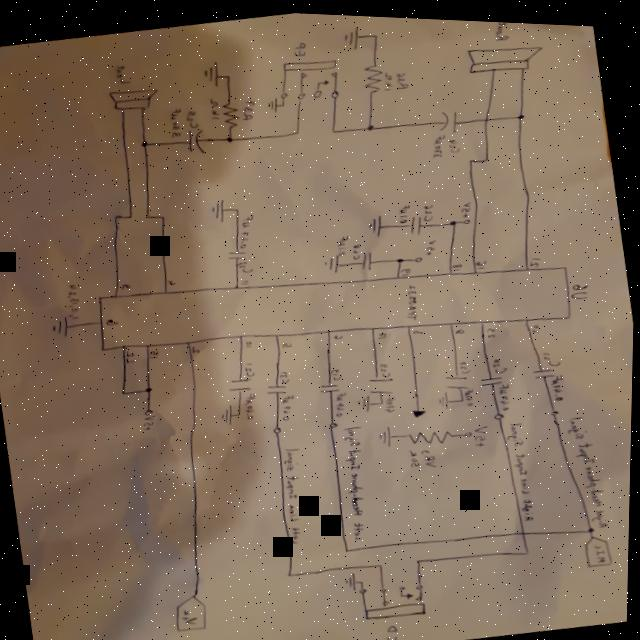capacitor: (184, 126, 209, 155), (435, 104, 460, 132), (367, 371, 395, 394), (445, 368, 471, 389), (532, 361, 559, 377), (229, 375, 254, 391), (480, 369, 506, 384), (406, 213, 426, 232), (319, 378, 342, 392), (359, 249, 375, 269), (267, 381, 290, 394), (226, 248, 248, 260)
crossover: (482, 112, 491, 119), (523, 527, 529, 532)
ground: (340, 22, 363, 50), (200, 60, 222, 87), (50, 314, 72, 339), (208, 197, 228, 223), (376, 422, 396, 446), (367, 211, 385, 236), (220, 402, 237, 425), (357, 390, 375, 411), (324, 252, 342, 271), (437, 386, 453, 407), (266, 94, 280, 113), (346, 570, 360, 588)
junction: (140, 139, 151, 147), (395, 253, 406, 261), (365, 121, 377, 128), (145, 385, 155, 393), (449, 215, 459, 223), (515, 109, 526, 116), (587, 521, 598, 528), (371, 29, 380, 37), (287, 569, 297, 576), (466, 154, 476, 161), (121, 389, 130, 396), (482, 152, 491, 159), (345, 544, 354, 551), (416, 555, 425, 561), (113, 214, 121, 220), (226, 135, 233, 141), (294, 127, 301, 133), (279, 100, 286, 106), (360, 576, 367, 582), (330, 126, 338, 131), (525, 546, 533, 551), (233, 206, 241, 211), (237, 410, 245, 415), (460, 393, 466, 399), (127, 213, 134, 218), (160, 214, 167, 219), (379, 560, 386, 565), (146, 213, 153, 218), (379, 397, 386, 402), (226, 74, 232, 77)
resistor: (404, 399, 458, 446), (361, 59, 385, 92), (219, 97, 243, 129)
source: (593, 537, 610, 559), (465, 426, 475, 434)
terminal: (275, 52, 346, 105), (360, 574, 435, 623), (175, 591, 213, 631), (583, 528, 616, 564), (144, 406, 157, 416), (330, 419, 341, 427), (273, 424, 284, 432), (414, 252, 424, 259), (551, 405, 561, 412), (463, 214, 472, 221), (497, 408, 506, 415)
text: (335, 419, 382, 541), (564, 409, 612, 528), (277, 444, 316, 543), (506, 415, 542, 519), (396, 279, 426, 321), (233, 210, 260, 248), (64, 282, 84, 319), (166, 106, 186, 138), (430, 129, 451, 156), (280, 391, 299, 420), (550, 368, 569, 397), (242, 390, 261, 418), (498, 378, 515, 409), (570, 276, 593, 297), (473, 420, 493, 444), (112, 62, 132, 85), (334, 388, 350, 416), (541, 344, 563, 364), (239, 96, 257, 120), (491, 17, 510, 39), (421, 443, 440, 465), (183, 107, 201, 130), (207, 95, 222, 121), (490, 351, 510, 370), (384, 620, 403, 640), (393, 67, 411, 88), (380, 67, 396, 90), (183, 607, 202, 626), (396, 200, 413, 221), (336, 232, 352, 253), (291, 38, 309, 55), (142, 413, 160, 430), (421, 200, 437, 219), (463, 383, 478, 403), (409, 445, 424, 465), (459, 197, 475, 215), (424, 234, 439, 253), (237, 258, 256, 273), (446, 133, 461, 151), (384, 392, 399, 410), (103, 313, 122, 327), (379, 358, 393, 376), (350, 239, 364, 256), (458, 355, 472, 371), (526, 251, 543, 264), (245, 360, 258, 376), (485, 321, 499, 335), (331, 364, 344, 378), (125, 349, 137, 364), (475, 254, 489, 266), (280, 368, 292, 382), (399, 263, 414, 274), (149, 347, 162, 359), (120, 280, 133, 291), (376, 327, 390, 337), (531, 318, 542, 330), (451, 258, 464, 268), (455, 323, 468, 332), (412, 325, 426, 333), (192, 343, 203, 353), (282, 338, 295, 346), (334, 330, 345, 338), (245, 338, 254, 347), (167, 278, 178, 285), (239, 277, 250, 284)
